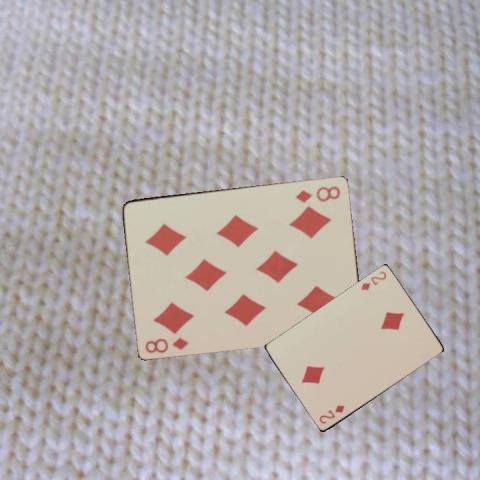2d: (357, 268, 388, 292), (316, 402, 345, 425)
8d: (293, 183, 342, 204), (142, 334, 189, 355)
